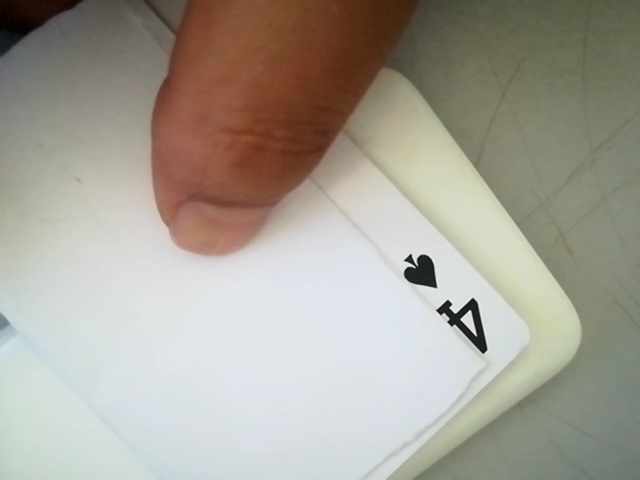ht 4: (384, 237, 511, 360)
